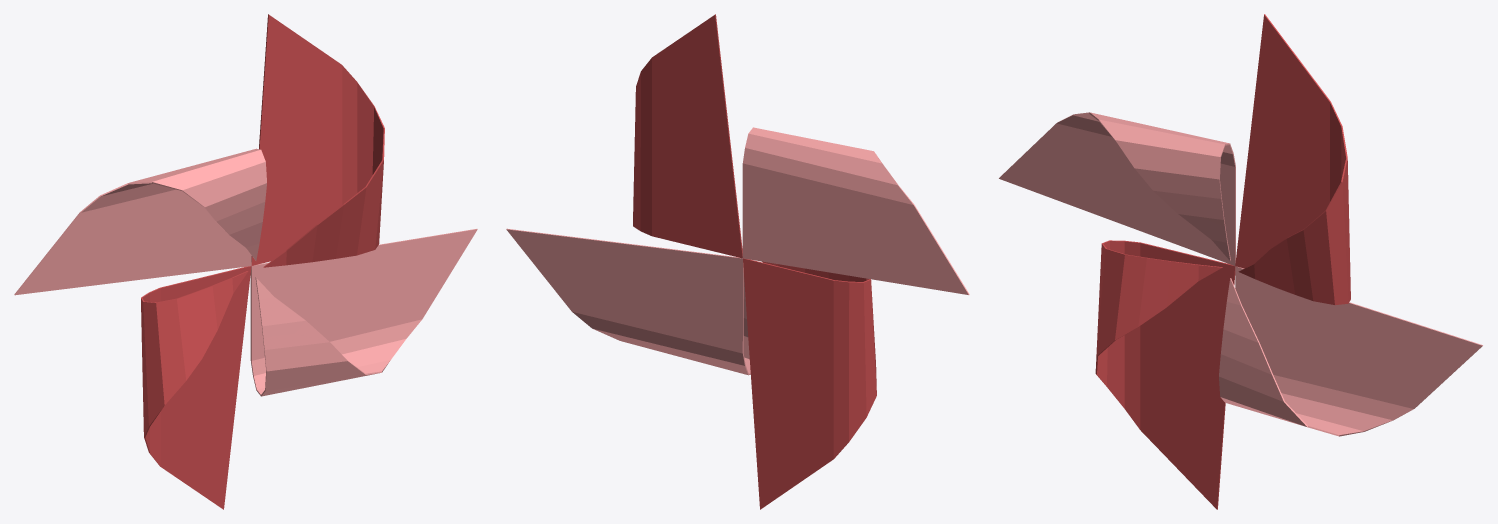
Rendered from helice.gltf.
The picture shows the model from 3 angles, left to right: view 1: azimuth 30°, elevation 25°; view 2: azimuth 150°, elevation 25°; view 3: azimuth 330°, elevation 25°; orthographic projection. The views are drawn at different scales.
Parts seen in each view (by area): view 1: Ailes; view 2: Ailes; view 3: Ailes.
Boxes of the visible parts, box(x1,y1,x2,y2) form: Ailes: box(14, 14, 477, 509); Ailes: box(506, 14, 969, 509); Ailes: box(999, 14, 1482, 509).
Bounding box in the file's own units: 3.5 × 3.5 × 0.4025.
Materials: 1 (1 with a texture image).
